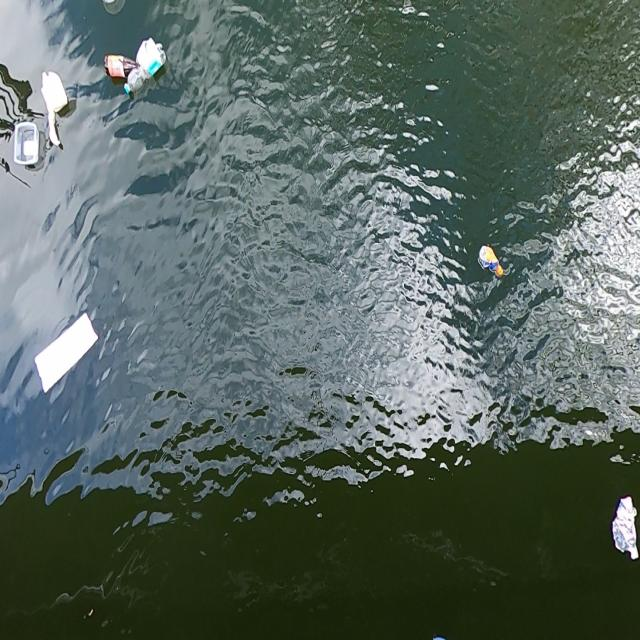Autre plastique: (34, 306, 103, 396), (12, 118, 42, 178)
Bouteille plastique: (121, 45, 170, 103), (476, 238, 506, 282)
Sac plastique: (610, 485, 640, 568)
